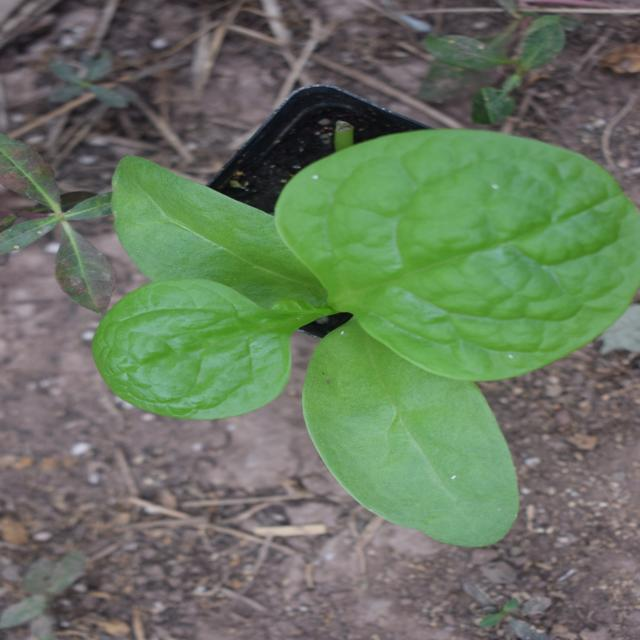Ceylon spinach: (151, 103, 517, 593)
